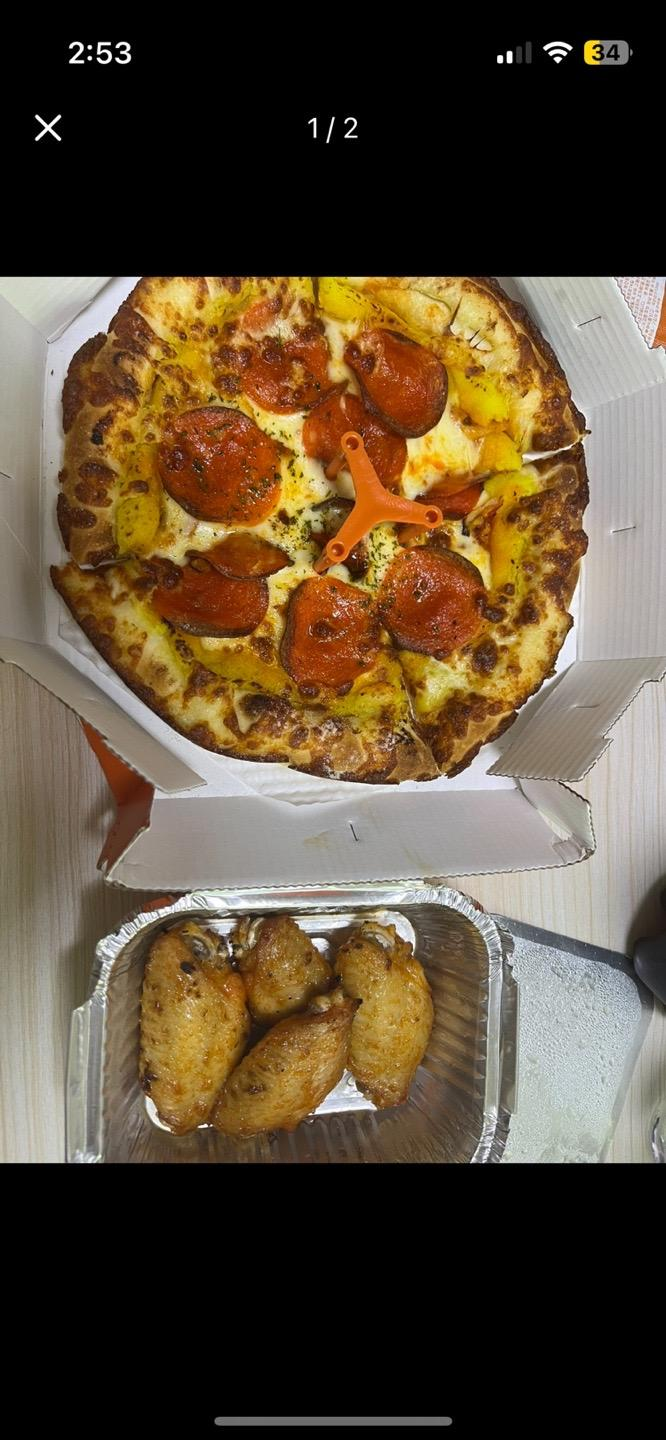Lunch Box: (0, 276, 665, 893)
